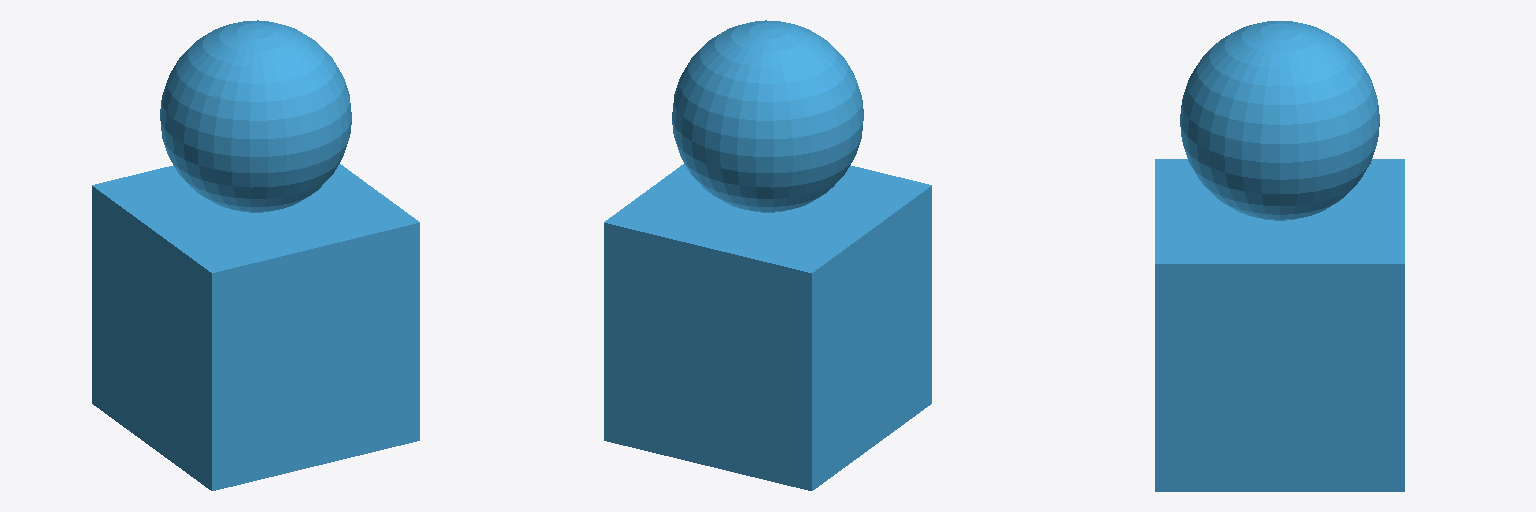
robot.urdf — multiple_visuals_collisions_in_link:
<?xml version="1.0"?>
<robot name="multiple_visuals_collisions_in_link">
  <!-- Root links without specifying a visual -->
  <link name="RootLink" />

  <!-- Link with multiple visuals and collisions -->
  <link name="link">
    <visual>
      <geometry>
        <box size="0.5 0.5 0.5"/>
      </geometry>
    </visual>
    <collision>
      <geometry>
        <box size="0.5 0.5 0.5"/>
      </geometry>
    </collision>
    <visual>
      <origin xyz="0 0 0.45"/>
      <geometry>
        <sphere radius="0.2"/>
      </geometry>
    </visual>
    <collision>
      <origin xyz="0 0 0.45"/>
      <geometry>
        <sphere radius="0.2"/>
      </geometry>
    </collision>
  </link>

  <joint name="joint" type="fixed">
    <origin xyz="0 0 0.25"/>
    <parent link="RootLink"/>
    <child link="link"/>
  </joint>
</robot>

--- What the picture shows (computed from the rendered views, not written in the file) ---
3 views of the same robot in one strip: view 1: azimuth 30°, elevation 25°; view 2: azimuth 150°, elevation 25°; view 3: azimuth 270°, elevation 25° (orthographic).
Robot: multiple_visuals_collisions_in_link — 2 links, 1 joints (1 fixed); root link RootLink; default pose: all joints at 0.
Links seen in each view (by area): view 1: link; view 2: link; view 3: link.
Boxes of the visible links, x1,y1,x2,y2 form: link: (92, 20, 419, 490); link: (604, 20, 931, 490); link: (1155, 21, 1404, 491).
Bounding box of the posed robot: 0.5 × 0.5 × 0.9 m (x, y, z).
Geometry: primitives only (box / cylinder / sphere), no mesh files.